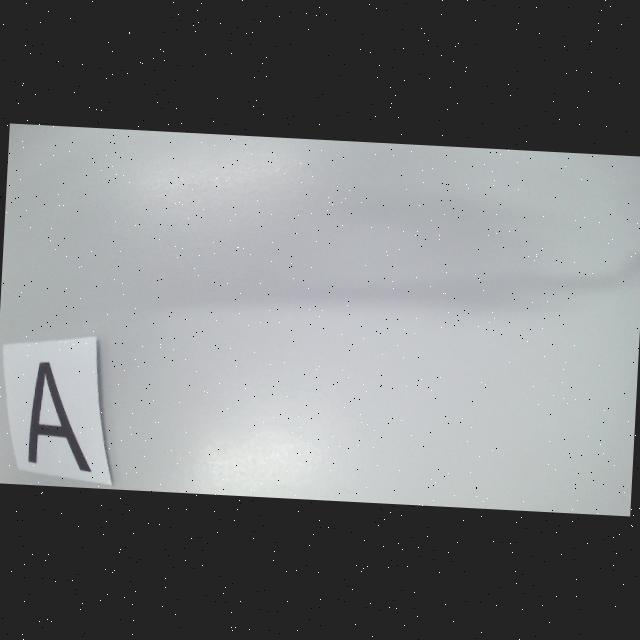FAKE: (26, 362, 98, 474)
